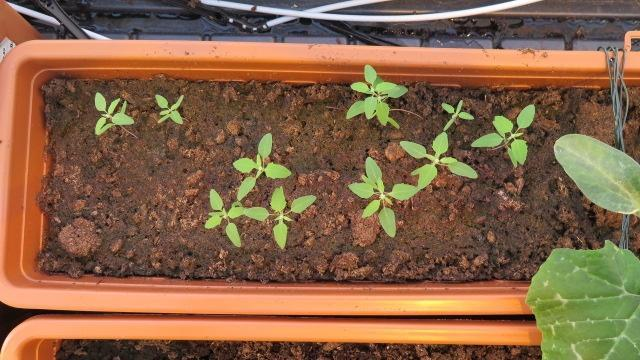weed: (84, 87, 136, 137), (434, 96, 478, 131), (148, 90, 188, 126)
